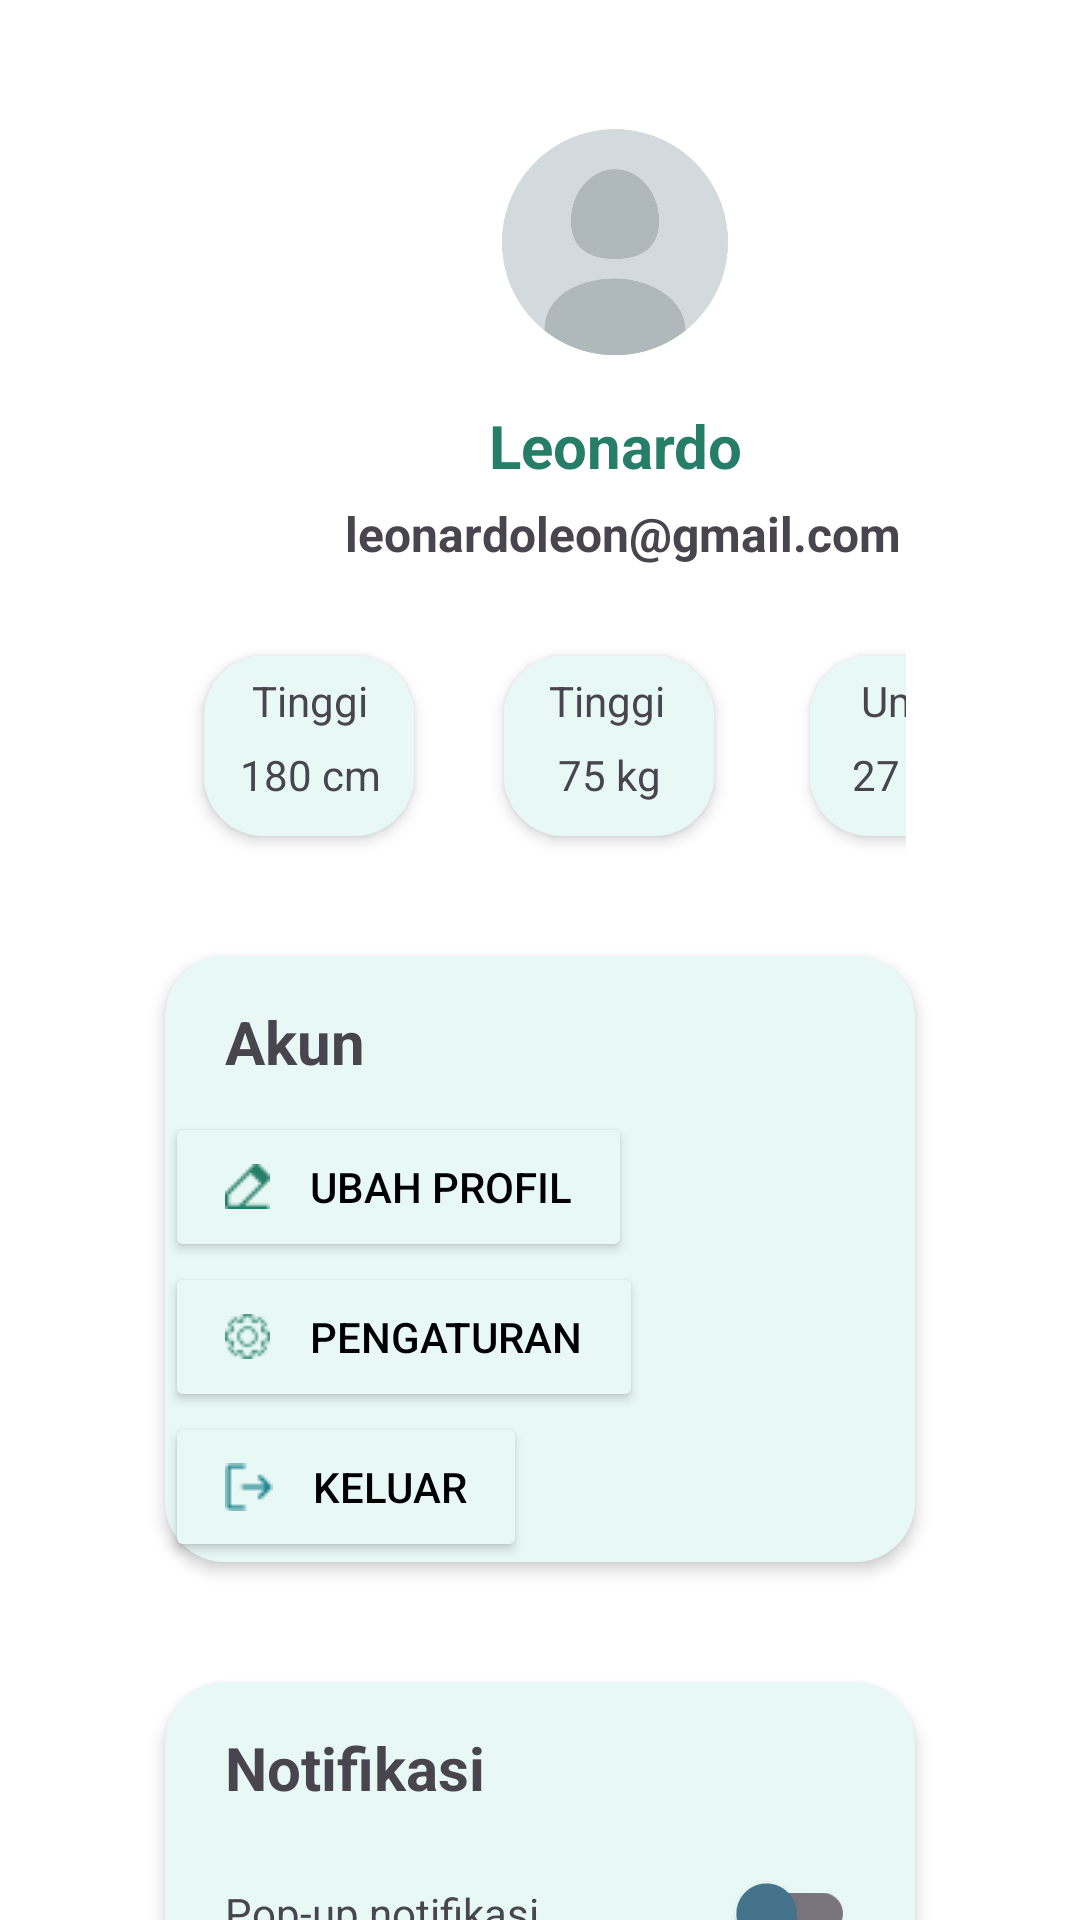

Where icons sit on this 1080 × 1920 app screen, as (x1, y1, x2, y2):
profile picture: (502, 129, 728, 355)
